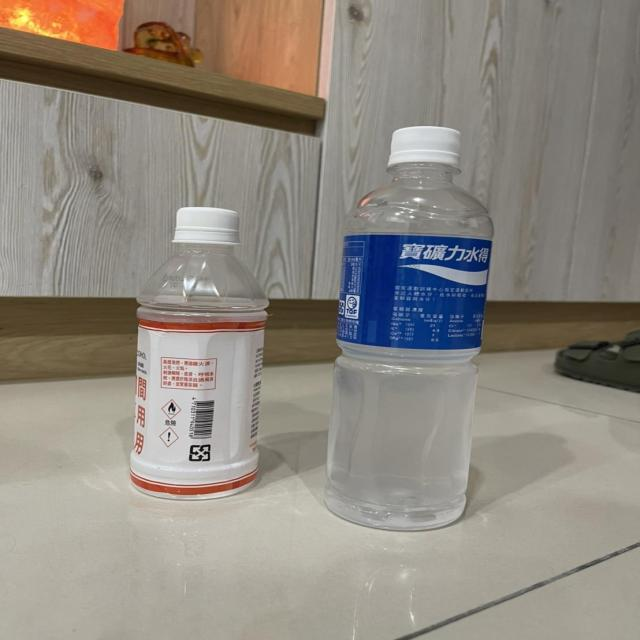bottle: (317, 122, 496, 534), (122, 206, 274, 500)
